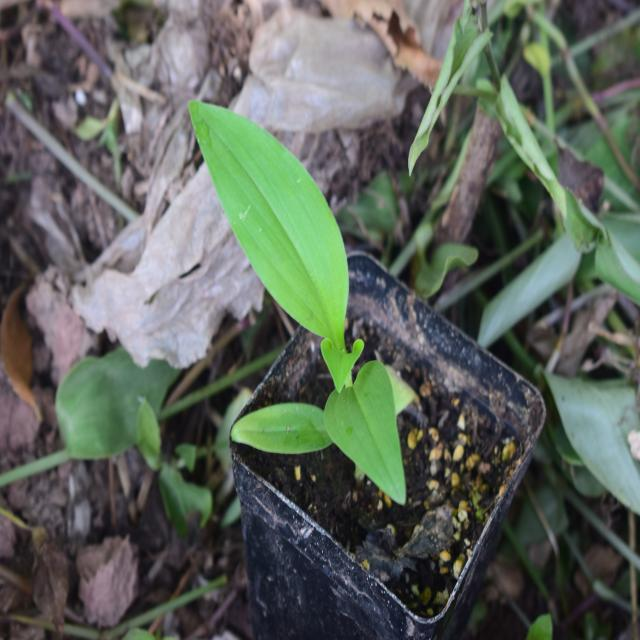Common Dayflower: (161, 97, 447, 507)
